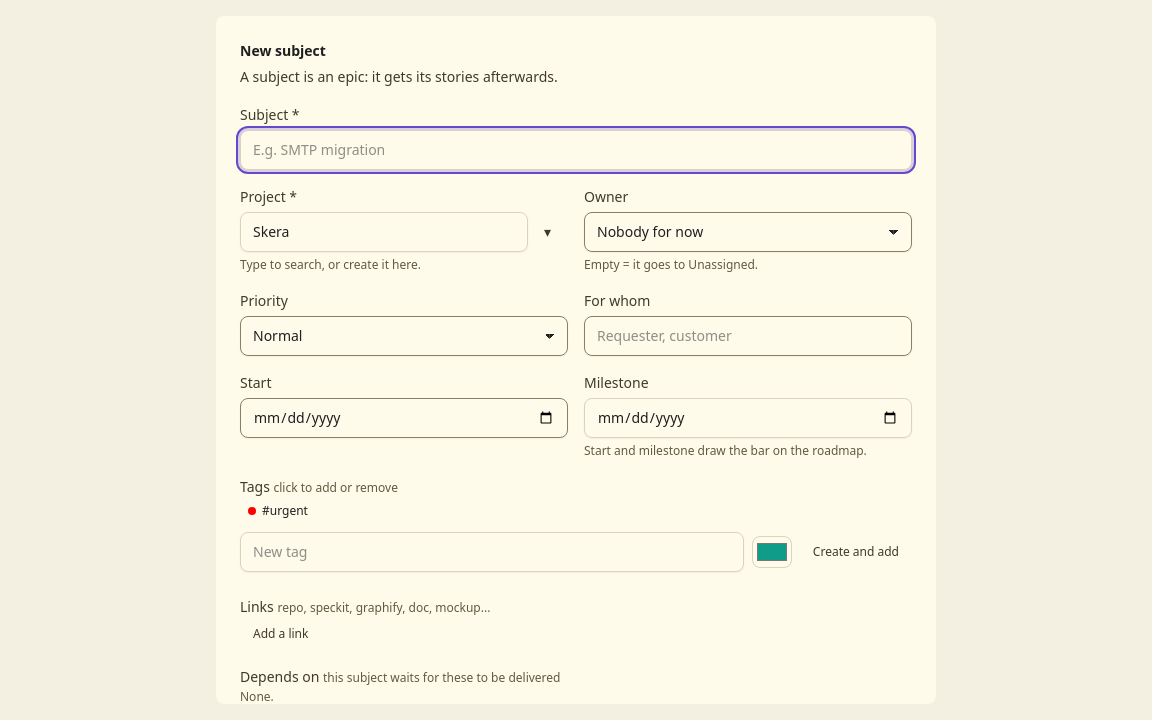
Test: creating a subject › refuses a link that is not a web address
The width and height of the screenshot is (1152, 720).
Type "Migration" into the field labelled "Subject *".
click(576, 150); type("Migration")  # box top-left (240, 130), bottom-right (912, 170)
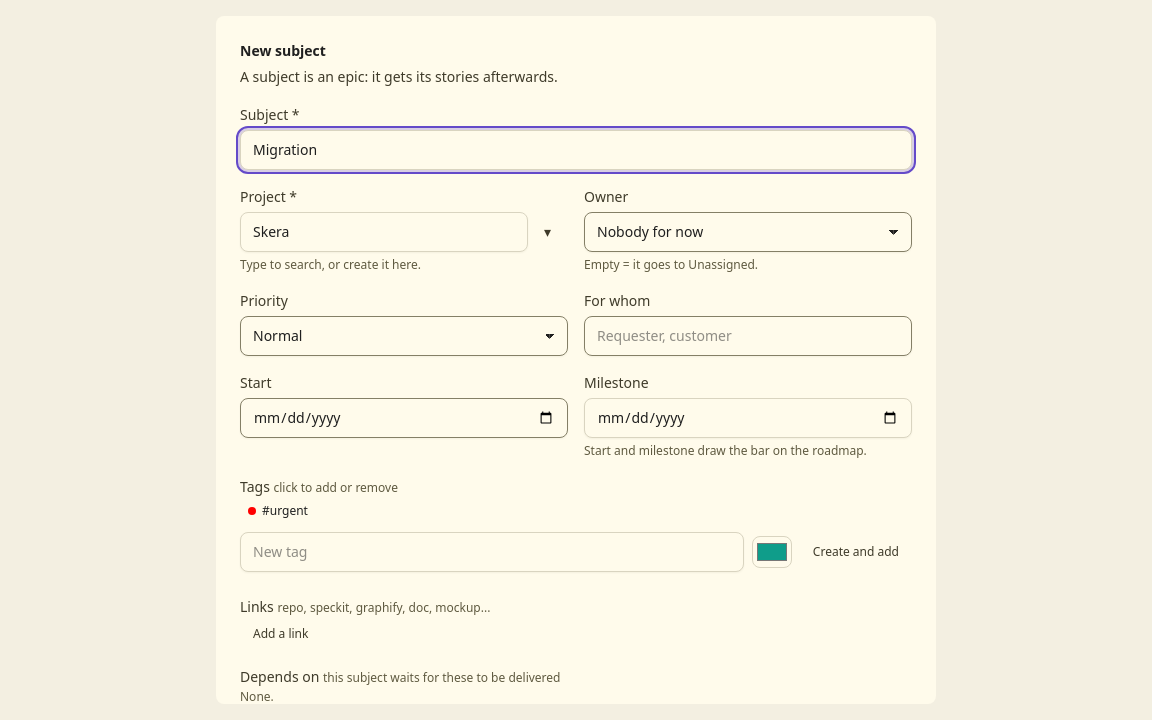
Click the button "Add a link".
click(281, 634)  # box top-left (240, 618), bottom-right (321, 650)
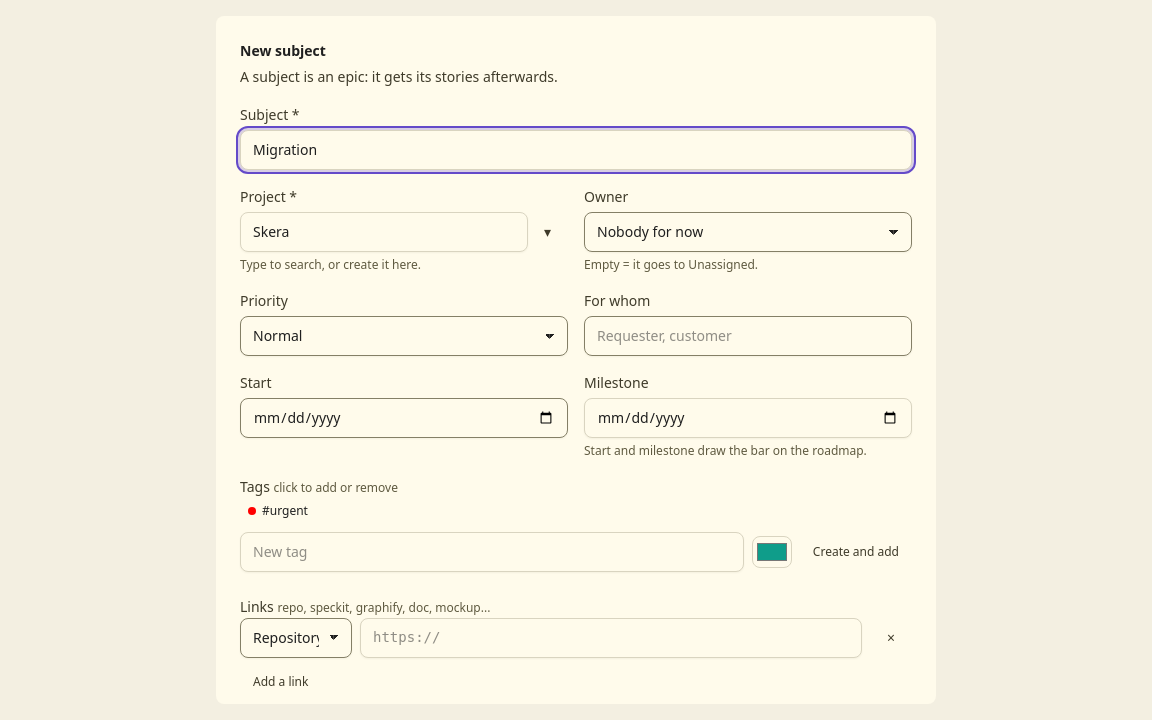
Type "not a link" into the field with placeholder "https://".
click(611, 638); type("not a link")  # box top-left (360, 618), bottom-right (862, 658)
(page scrolled)
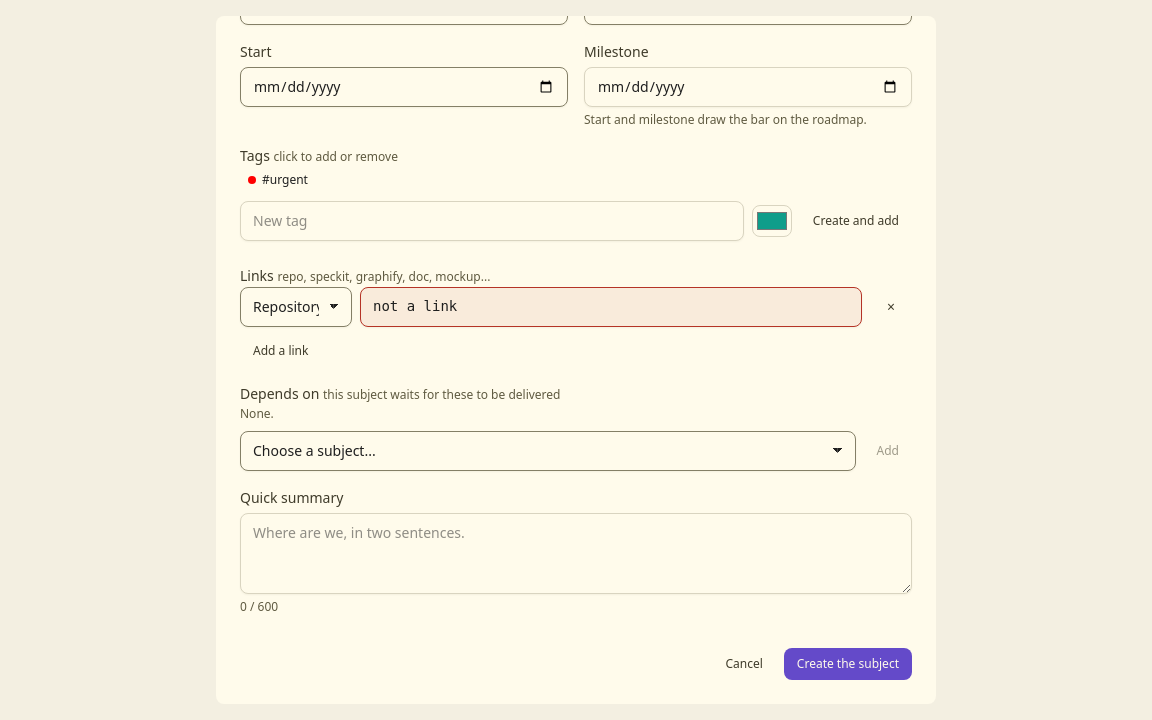
Click the button "Create the subject".
click(848, 664)  # box top-left (784, 648), bottom-right (912, 680)
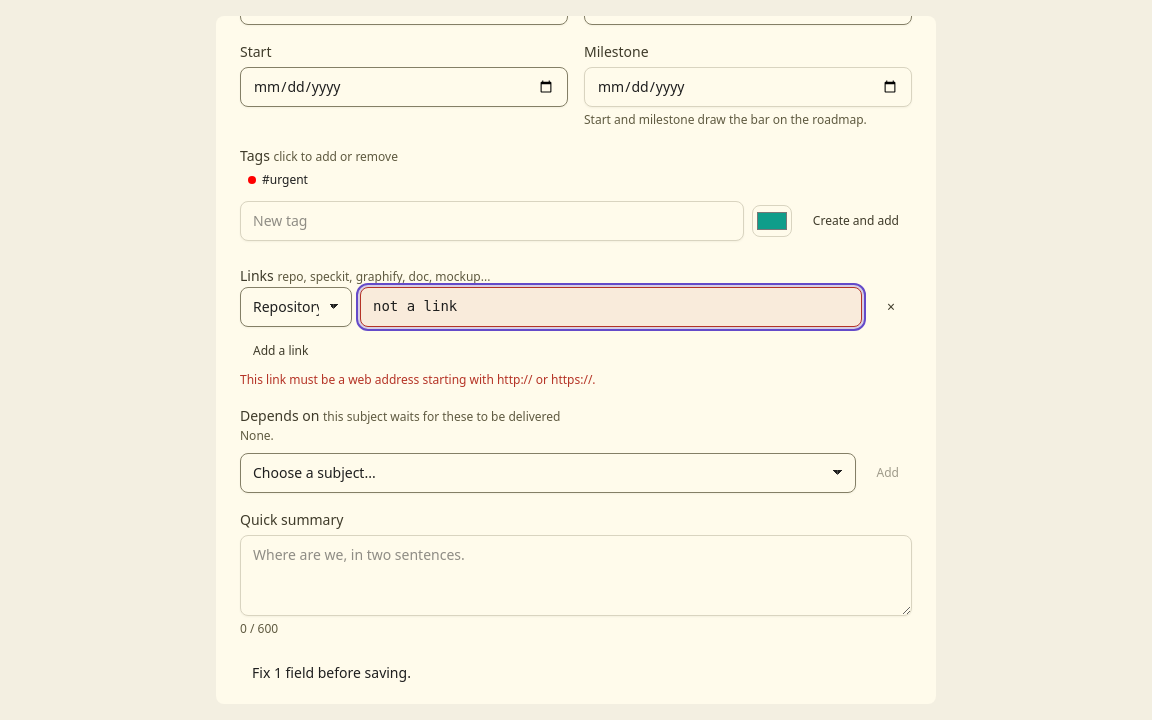
Expected: the text with id "subject-form-links-error" shows "web address", top-left (240, 371), bottom-right (596, 388)
